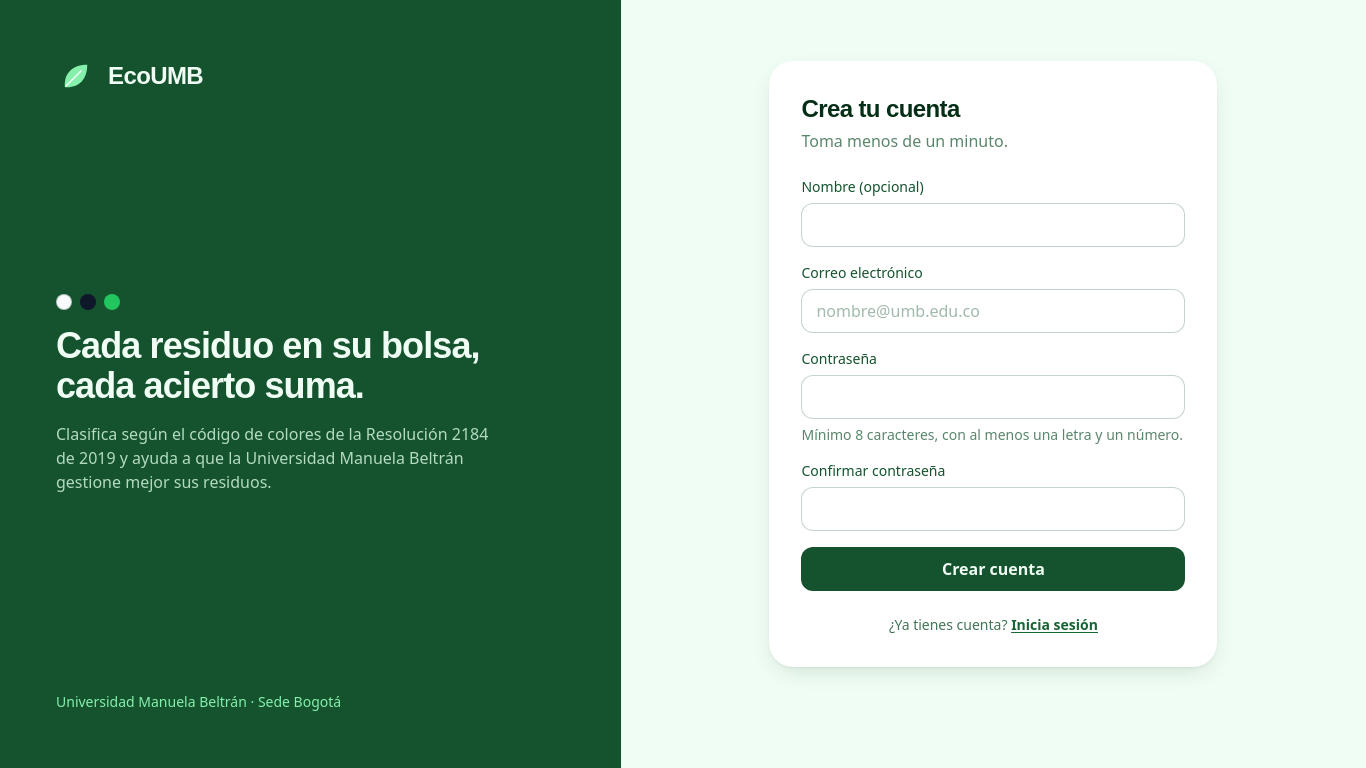
Test case: Registro (S1-08) › crea la cuenta y lleva al login con aviso y correo precargado
expect the button "Crear cuenta" is shown: met, box left=801, top=547, right=1185, bottom=591
Type "Ana Pérez" into the field labelled "Nombre (opcional)" at (993, 225), box left=801, top=203, right=1185, bottom=247
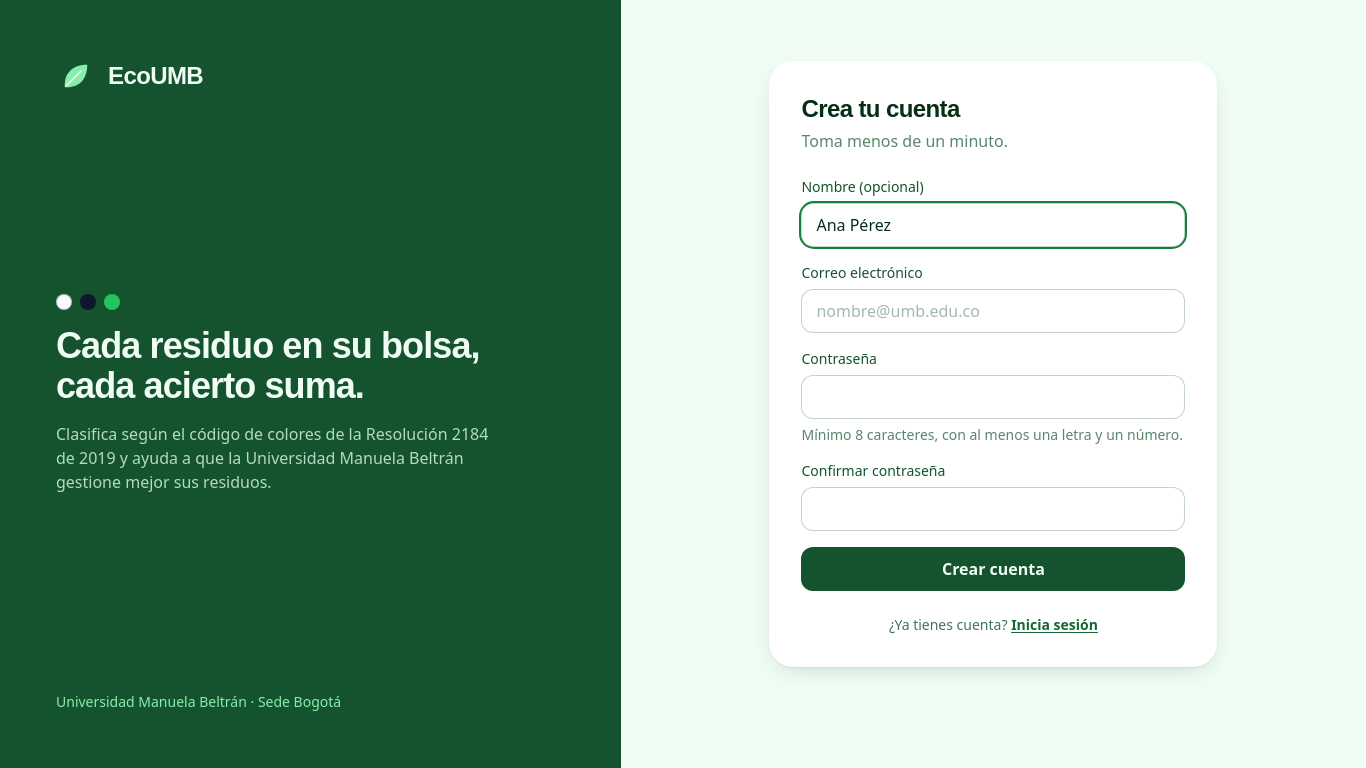
Type "ana@umb.edu.co" into the field labelled "Correo electrónico" at (993, 311), box left=801, top=289, right=1185, bottom=333
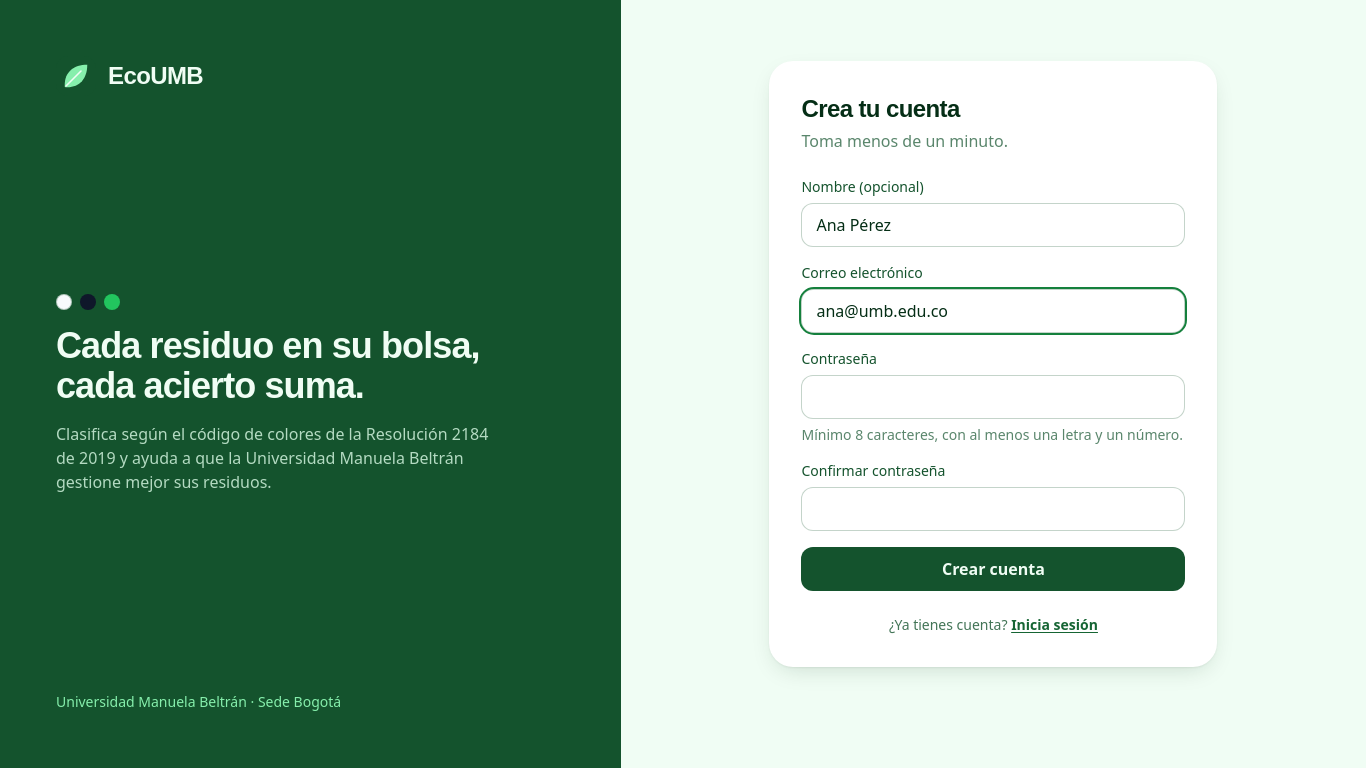
Type "Clave-Segura-2026" into the password field labelled "Contraseña" at (993, 397), box left=801, top=375, right=1185, bottom=419
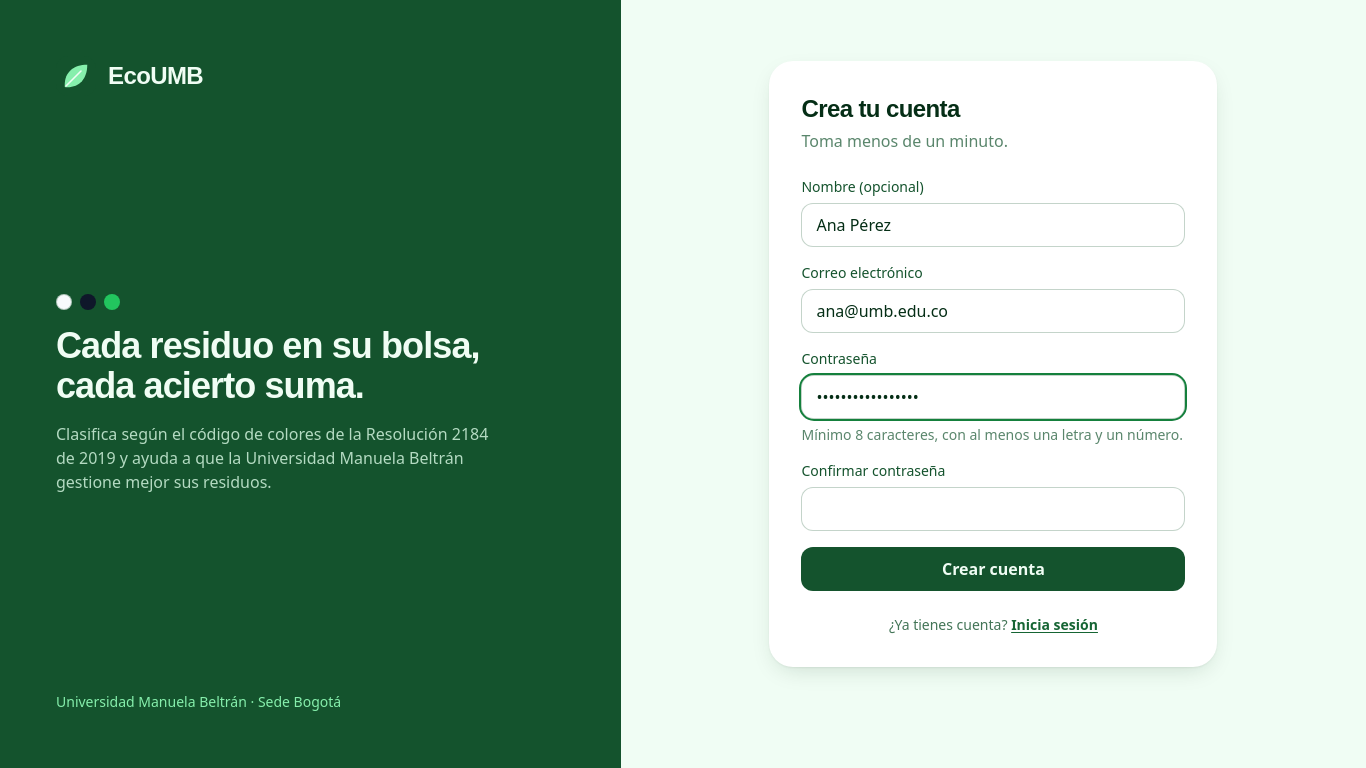
Type "Clave-Segura-2026" into the password field labelled "Confirmar contraseña" at (993, 509), box left=801, top=487, right=1185, bottom=531
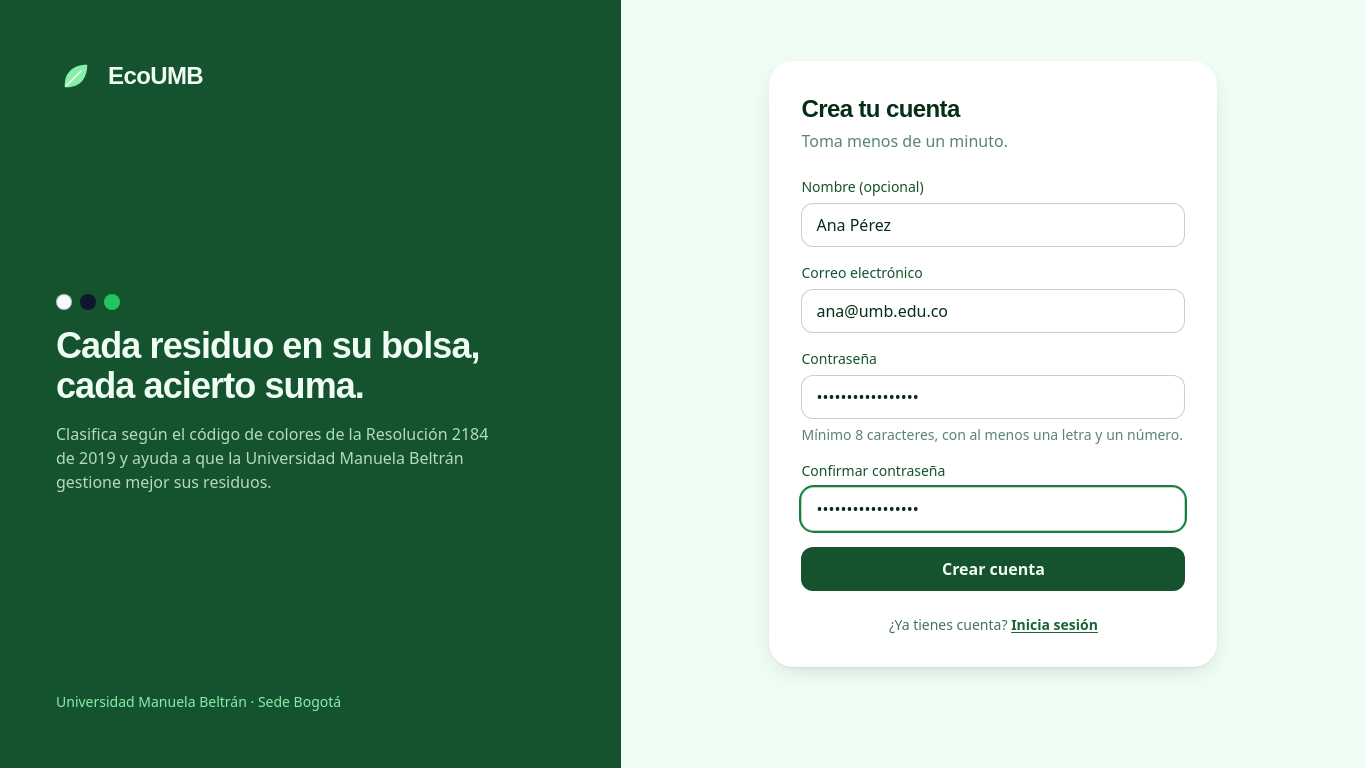
Click the button "Crear cuenta" at (993, 569), box left=801, top=547, right=1185, bottom=591
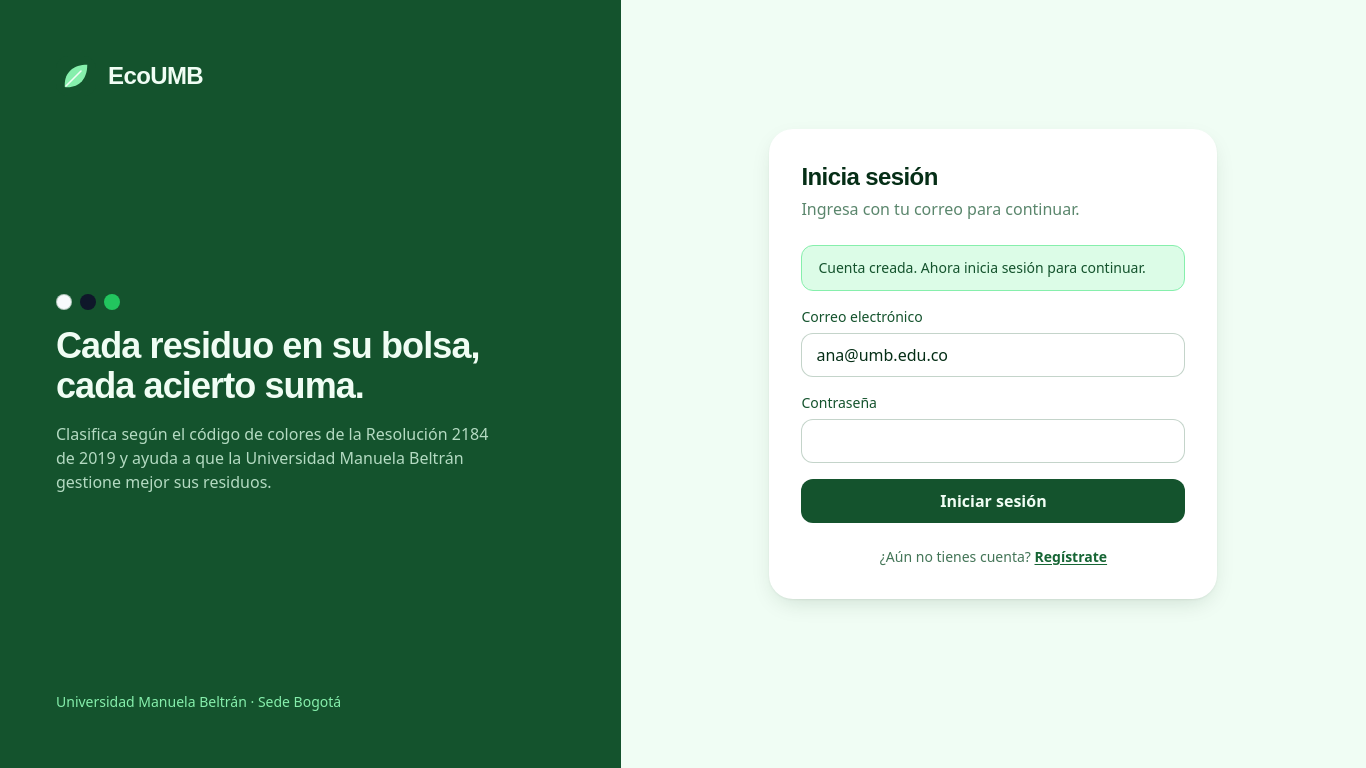
expect the field labelled "Correo electrónico" holds "ana@umb.edu.co": met, box left=801, top=333, right=1185, bottom=377
expect the heading "Inicia sesión" is shown: met, box left=801, top=163, right=938, bottom=190
expect the text "Cuenta creada. Ahora inicia sesión para continuar." is shown: met, box left=801, top=245, right=1185, bottom=291
